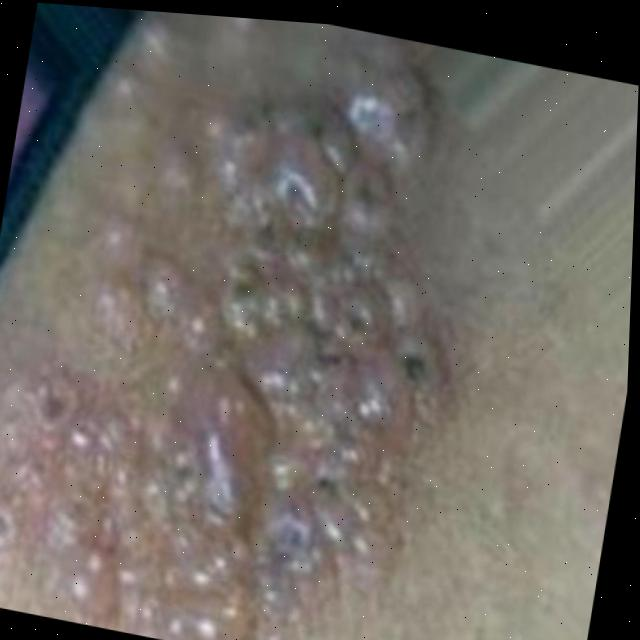Shingles: (6, 13, 487, 640)
